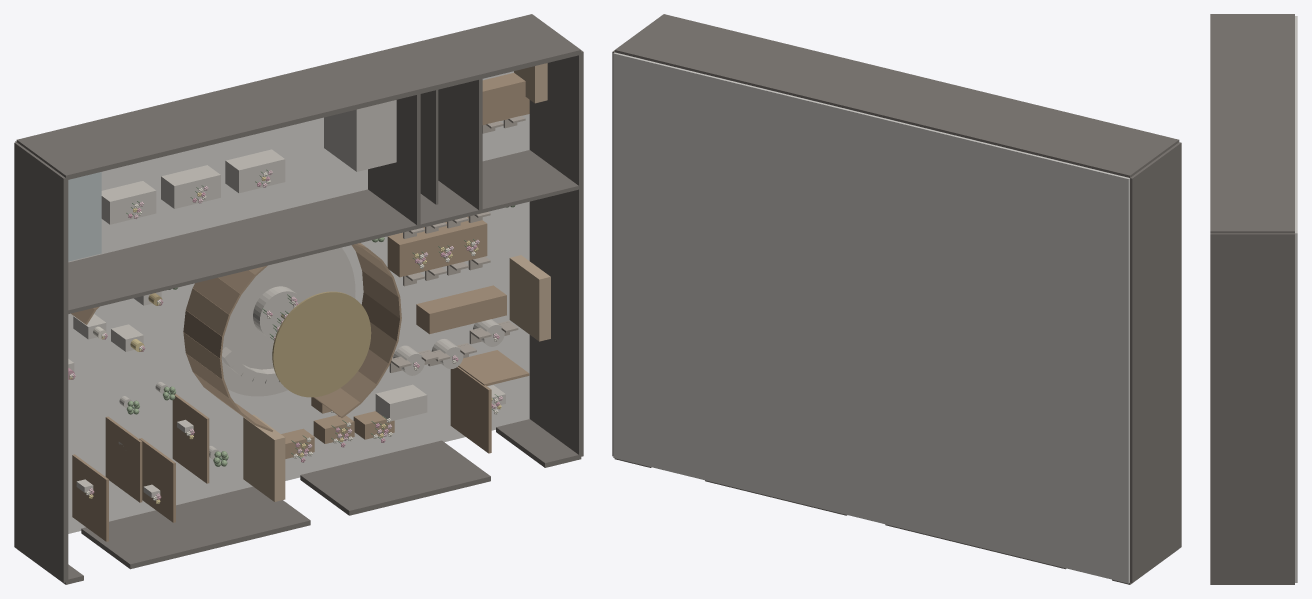
File: Casa_Magnolia_V5_Recorrido.glb
3 views of the same model, side by side, from view 1: azimuth 30°, elevation 25°; view 2: azimuth 150°, elevation 25°; view 3: azimuth 270°, elevation 25° (orthographic). The views are drawn at different scales.
Parts seen in each view (by area): view 1: floor, north, west, east, backfront, south1, skylight, south2, heartfloor, bathright, clean, backright (+31 smaller); view 2: floor, north, west, east; view 3: east, north, floor.
Part boxes in pixels (<box>): floor: <box>15,71,529,533</box>; north: <box>16,14,581,180</box>; west: <box>14,142,68,582</box>; east: <box>529,50,583,456</box>; backfront: <box>66,189,418,314</box>; south1: <box>81,486,310,569</box>; skylight: <box>272,291,371,397</box>; south2: <box>300,440,490,515</box>; heartfloor: <box>221,247,355,396</box>; bathright: <box>438,76,482,211</box>; clean: <box>324,100,396,171</box>; backright: <box>368,92,420,225</box>; floor: <box>613,52,1129,583</box>; north: <box>614,14,1179,177</box>; west: <box>1130,142,1181,582</box>; east: <box>612,50,614,456</box>; east: <box>1210,233,1294,583</box>; north: <box>1210,14,1294,233</box>; floor: <box>1295,16,1297,582</box>.
Bounding box in the file's own units: 20.18 × 15.18 × 3.4.
